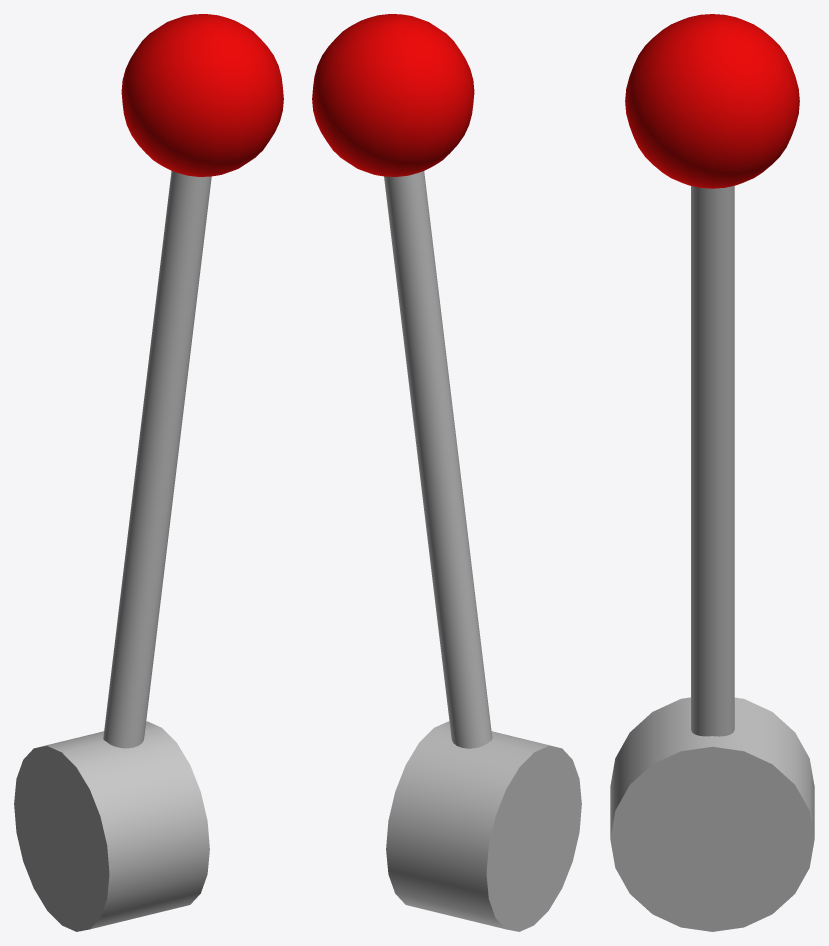
Rendered from leverPull.fbx.
The picture shows the model from 3 angles, left to right: view 1: azimuth 30°, elevation 25°; view 2: azimuth 150°, elevation 25°; view 3: azimuth 270°, elevation 25°; orthographic projection. The views are drawn at different scales.
Visible parts, largest first — view 1: polySurface13, polySurface12; view 2: polySurface13, polySurface12; view 3: polySurface13, polySurface12.
Part boxes in pixels (box(x1,y1,x2,y2)): polySurface13: box(103, 14, 283, 748); polySurface12: box(14, 721, 209, 931); polySurface13: box(312, 14, 492, 748); polySurface12: box(386, 721, 581, 931); polySurface13: box(625, 14, 799, 736); polySurface12: box(610, 697, 814, 931).
Size of the model in its own units: 1.26 by 4.93 by 0.9815.
